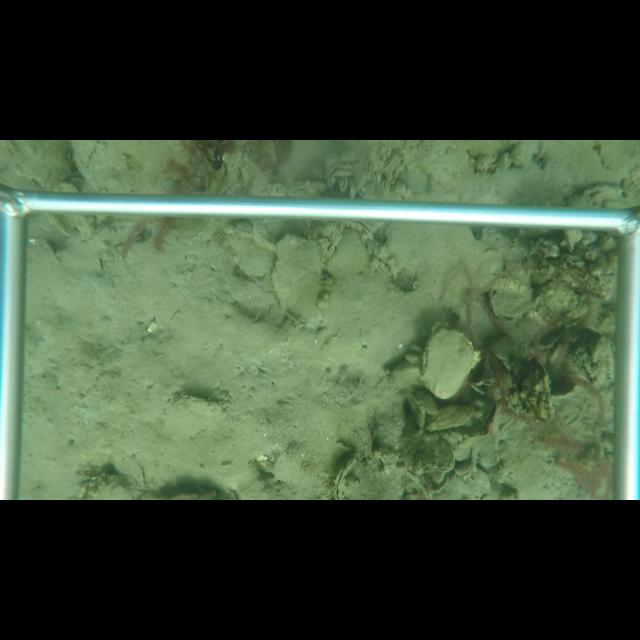Oyster-Closed: (267, 234, 327, 334), (417, 323, 480, 403), (156, 392, 228, 442), (424, 404, 476, 432), (408, 395, 426, 430), (379, 178, 391, 200), (371, 171, 383, 188), (337, 177, 348, 195), (309, 165, 323, 179), (324, 174, 335, 189), (364, 161, 374, 176)
Oyster-Open: (485, 278, 534, 324), (329, 449, 361, 500)
